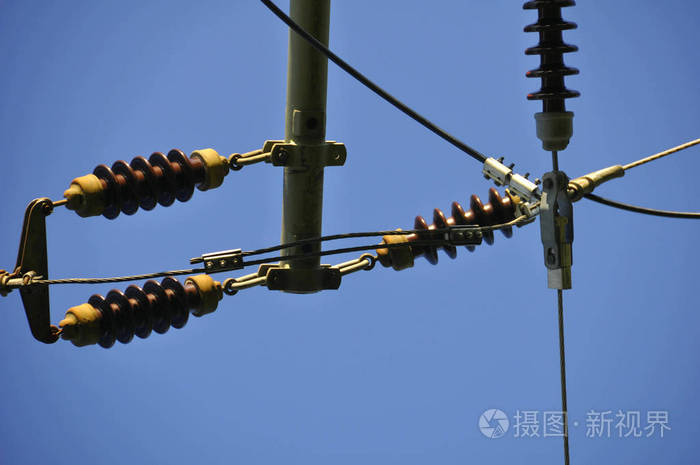insulator: (413, 190, 514, 268), (100, 145, 196, 222), (91, 277, 187, 352), (525, 1, 584, 103)
